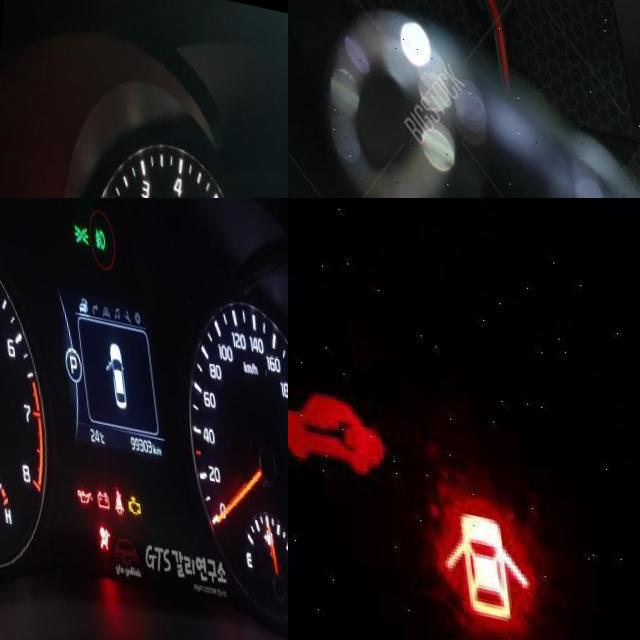FrontFogLight: (90, 211, 102, 234)
SideLamp: (68, 206, 85, 230)
